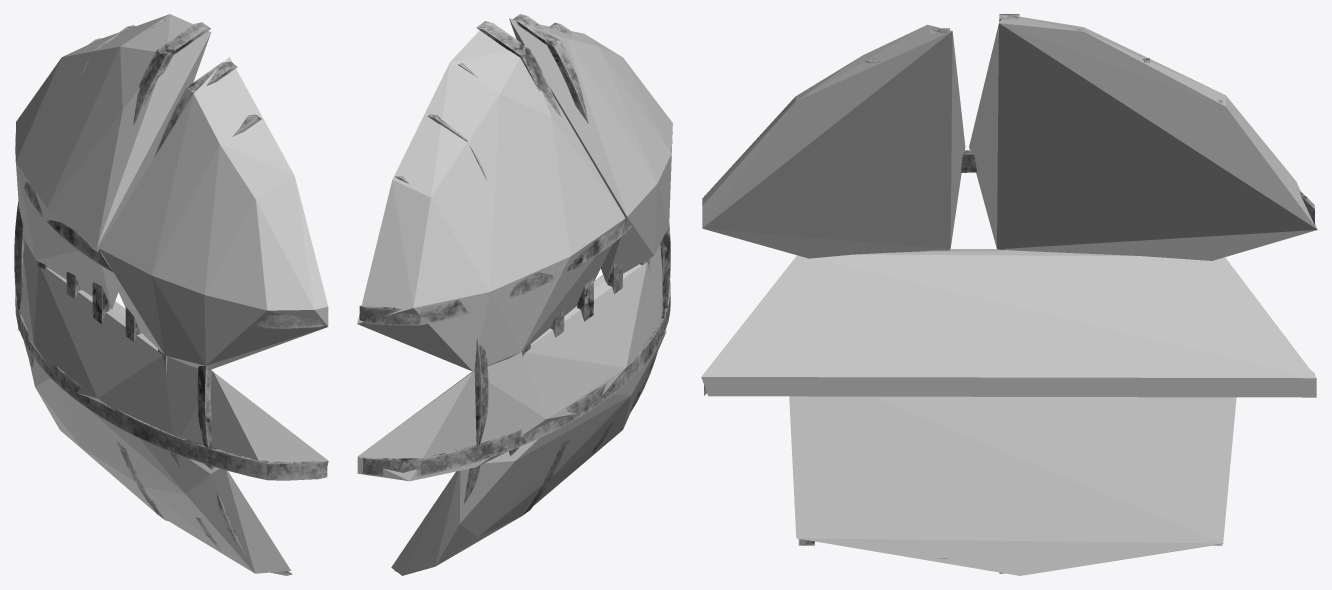
The picture shows the model from 3 angles, left to right: view 1: azimuth 30°, elevation 25°; view 2: azimuth 150°, elevation 25°; view 3: azimuth 270°, elevation 25°; orthographic projection. The views are drawn at different scales.
Parts seen in each view (by area): view 1: SM_8_ConvexHulls, SM_8; view 2: SM_8_ConvexHulls, SM_8; view 3: SM_8_ConvexHulls, SM_8.
Part boxes in pixels (x1=…): SM_8_ConvexHulls: x1=16, y1=14, x2=328, y2=573; SM_8: x1=14, y1=18, x2=327, y2=575; SM_8_ConvexHulls: x1=357, y1=18, x2=672, y2=575; SM_8: x1=359, y1=14, x2=670, y2=571; SM_8_ConvexHulls: x1=701, y1=17, x2=1317, y2=575; SM_8: x1=704, y1=14, x2=1314, y2=573.
Size of the model in its own units: 73.71 by 272 by 270.
Materials: 2 (1 with a texture image).
